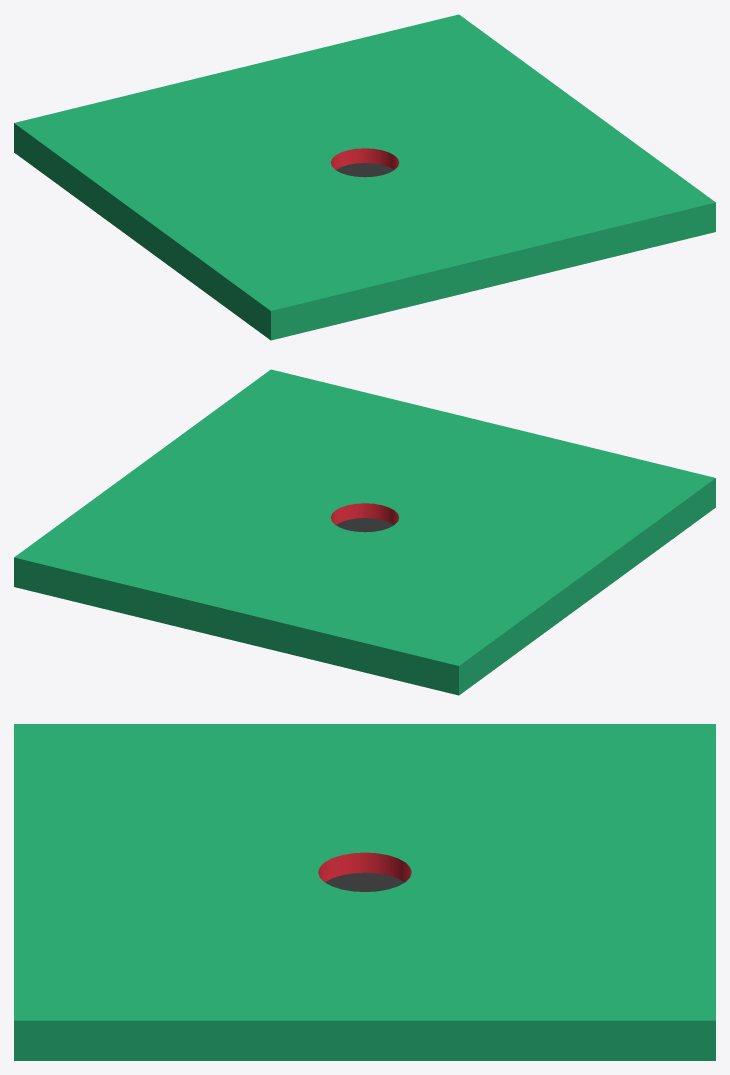
File: holeOpen.fbx
The picture shows the model from 3 angles, top to bottom: view 1: azimuth 30°, elevation 25°; view 2: azimuth 150°, elevation 25°; view 3: azimuth 270°, elevation 25°; orthographic projection. The views are drawn at different scales.
Visible parts, largest first — view 1: holeOpen; view 2: holeOpen; view 3: holeOpen.
Part boxes in pixels (<box>): holeOpen: <box>14,14,715,340</box>; holeOpen: <box>14,369,715,695</box>; holeOpen: <box>14,724,715,1060</box>.
Size of the model in its own units: 10 by 0.6333 by 10.
